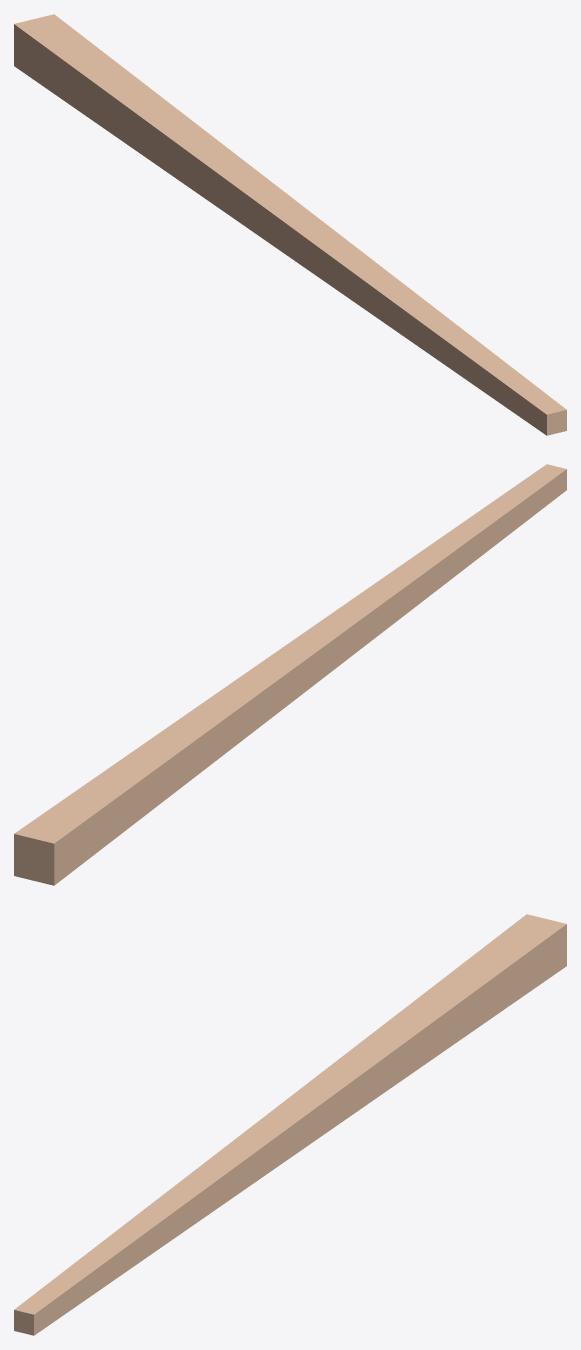
Rendered from chopstick.glb.
The picture shows the model from 3 angles, top to bottom: view 1: azimuth 30°, elevation 25°; view 2: azimuth 150°, elevation 25°; view 3: azimuth 330°, elevation 25°; orthographic projection.
Parts seen in each view (by area): view 1: chopstick; view 2: chopstick; view 3: chopstick.
Part boxes in pixels (x1=…): chopstick: x1=14, y1=14, x2=566, y2=435; chopstick: x1=14, y1=464, x2=566, y2=885; chopstick: x1=14, y1=914, x2=566, y2=1335.
Bounding box in the file's own units: 0.02 × 0.02 × 0.45.
